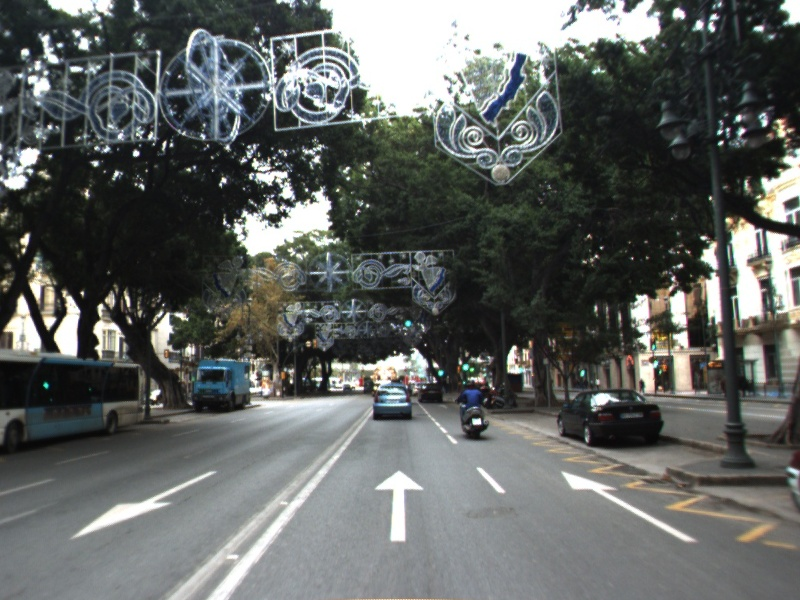STRAIGHT: (559, 469, 701, 545), (372, 468, 426, 543)
